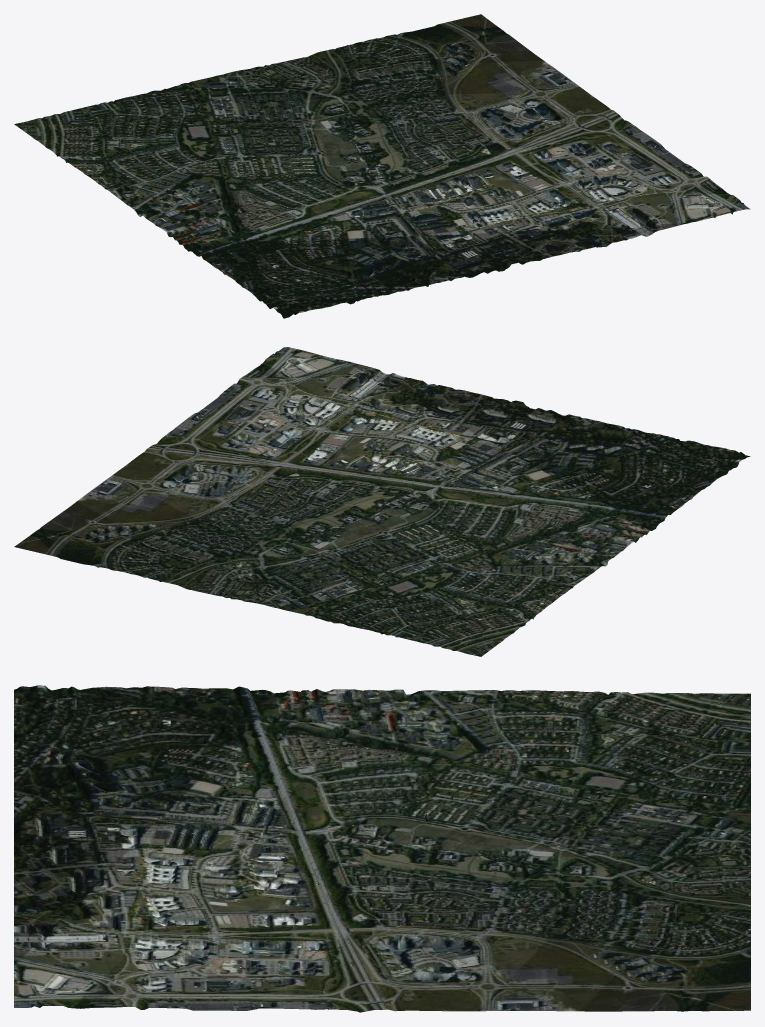
Rendered from map_10_256_432.dae.
3 renders of one model, top to bottom at view 1: azimuth 30°, elevation 25°; view 2: azimuth 150°, elevation 25°; view 3: azimuth 270°, elevation 25°, orthographic. The views are drawn at different scales.
Parts seen in each view (by area): view 1: Ter0; view 2: Ter0; view 3: Ter0.
Part boxes in pixels (left/top/right/bottom): Ter0: left=14, top=14, right=750, bottom=318; Ter0: left=14, top=347, right=750, bottom=656; Ter0: left=14, top=685, right=750, bottom=1012.
Bounding box in the file's own units: 2044 × 2044 × 72.4.
3 materials, 3 textured.
